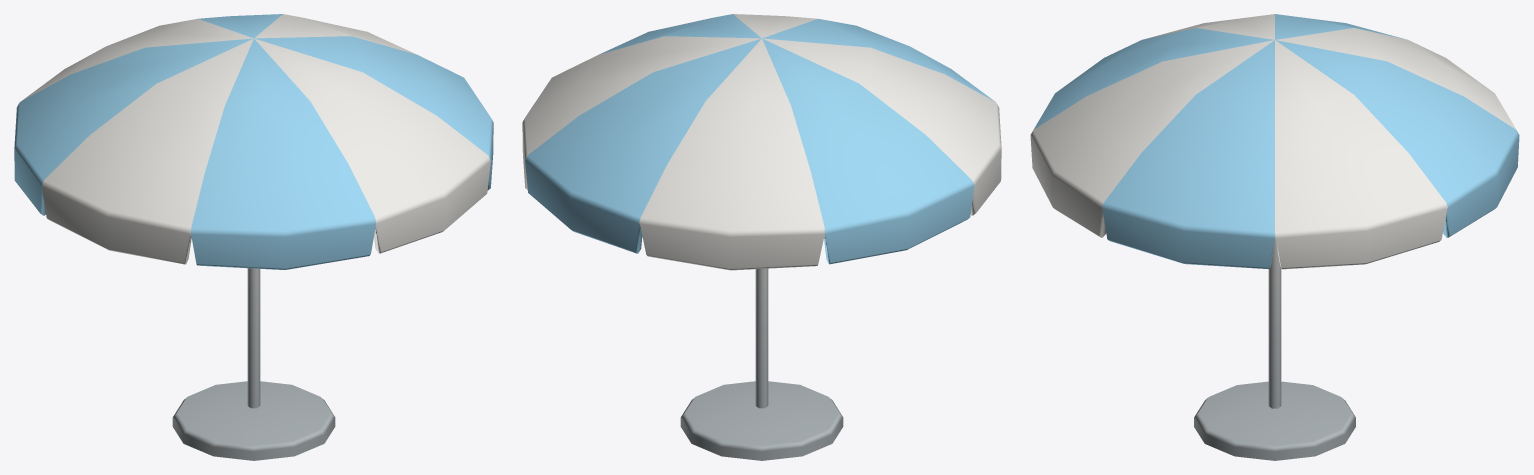
File: Umbrella_Blue.fbx
The picture shows the model from 3 angles, left to right: view 1: azimuth 30°, elevation 25°; view 2: azimuth 150°, elevation 25°; view 3: azimuth 270°, elevation 25°; orthographic projection.
Parts seen in each view (by area): view 1: Umbrella_Blue; view 2: Umbrella_Blue; view 3: Umbrella_Blue.
Part boxes in pixels (x1,y1,x2,y2): Umbrella_Blue: (14,14,493,460); Umbrella_Blue: (522,14,1001,460); Umbrella_Blue: (1030,14,1519,460).
Bounding box in the file's own units: 403 × 352 × 403.
